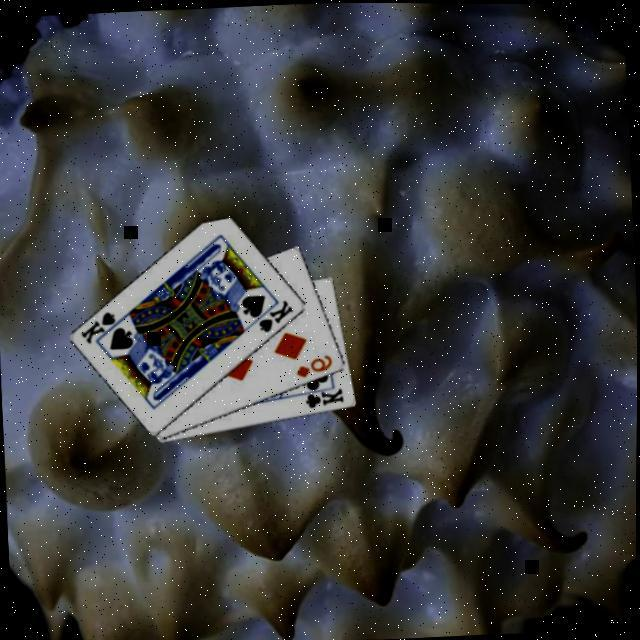6D: (292, 352, 334, 381)
KC: (296, 383, 345, 411)
KS: (75, 309, 125, 347), (253, 298, 295, 336)
